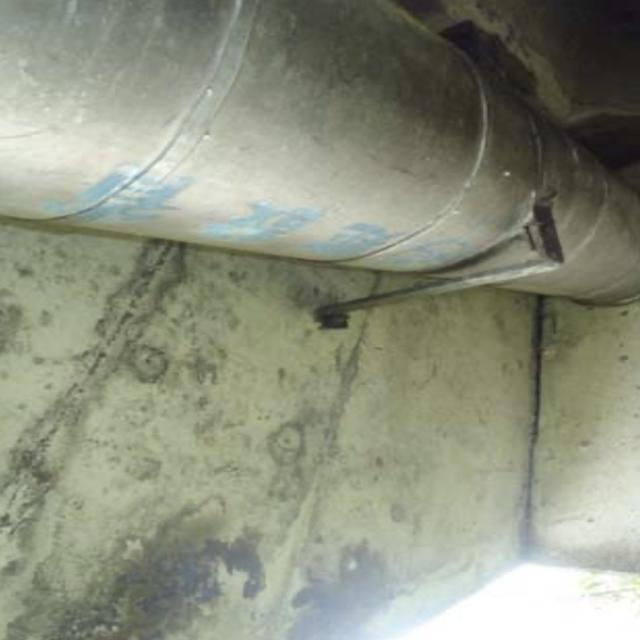leakage: (67, 497, 297, 640)
